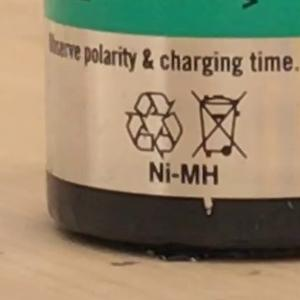keyword: (139, 154, 228, 192)
